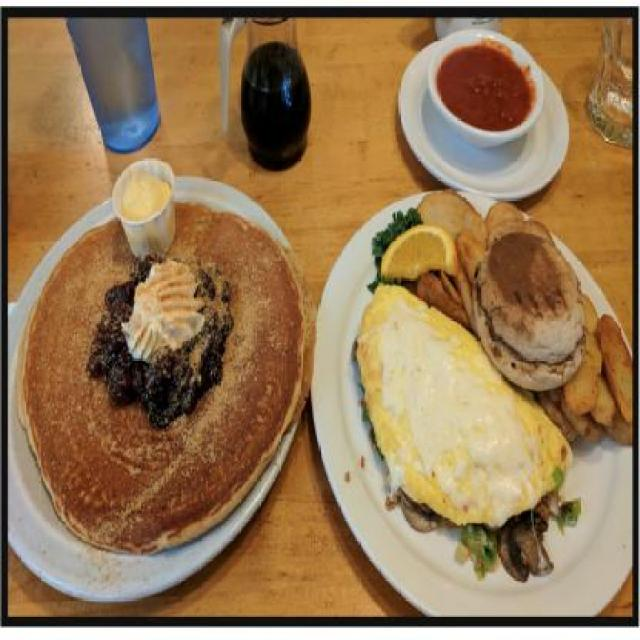ice cream: (126, 266, 205, 354), (116, 168, 178, 229)
omelette: (349, 387, 574, 538), (359, 282, 483, 396)
pancakes: (15, 199, 312, 552)
